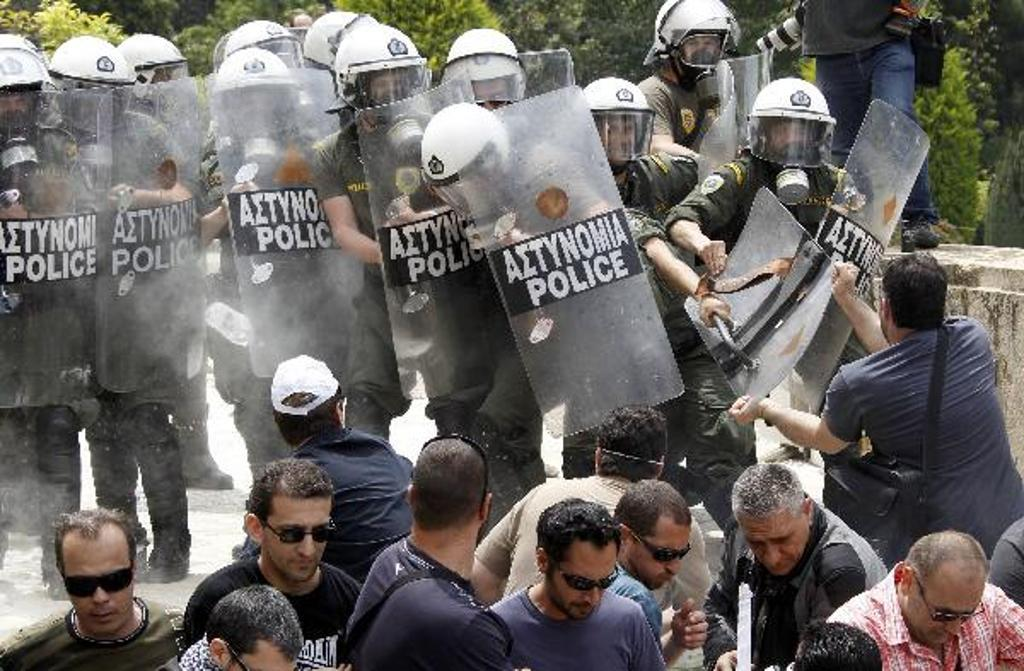face: (63, 535, 133, 632), (266, 493, 332, 582), (919, 560, 984, 644), (552, 541, 618, 620), (631, 515, 692, 590), (741, 509, 809, 575), (229, 637, 296, 671), (603, 116, 638, 169), (77, 80, 119, 122), (773, 121, 813, 164), (462, 78, 507, 116), (461, 158, 500, 197), (372, 74, 408, 113), (240, 92, 275, 131), (143, 65, 177, 105), (684, 35, 719, 71), (1, 95, 28, 132)
